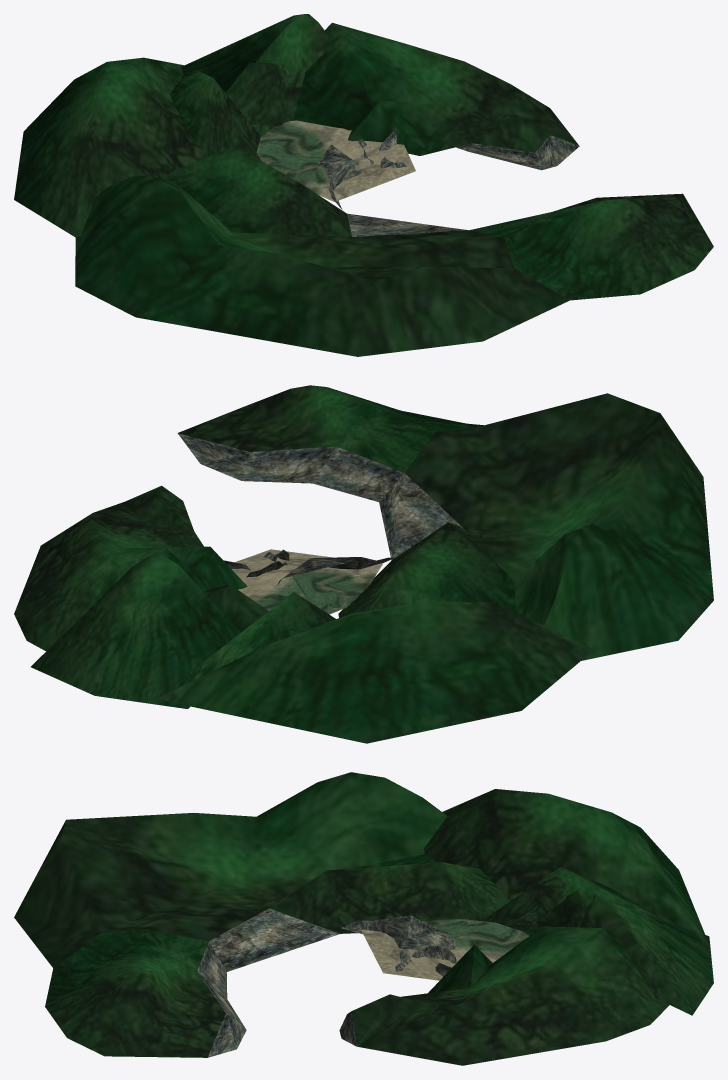
File: pir_m_are_isl_tortuga_low.fbx
3 renders of one model, top to bottom at view 1: azimuth 30°, elevation 25°; view 2: azimuth 150°, elevation 25°; view 3: azimuth 270°, elevation 25°, orthographic. The views are drawn at different scales.
Parts seen in each view (by area): view 1: hills, world_ground, island_rocks_2, island_rocks_1, island_rocks_3; view 2: hills, island_rocks_1, world_ground, island_rocks_3; view 3: hills, island_rocks_1, world_ground, island_rocks_3, island_rocks_4.
Boxes of the visible parts, left/top/right/bottom form: hills: left=14, top=14, right=713, bottom=356; world_ground: left=256, top=120, right=415, bottom=201; island_rocks_2: left=456, top=135, right=579, bottom=170; island_rocks_1: left=347, top=213, right=467, bottom=236; island_rocks_3: left=317, top=144, right=361, bottom=209; hills: left=14, top=385, right=713, bottom=743; island_rocks_1: left=178, top=433, right=462, bottom=560; world_ground: left=232, top=549, right=382, bottom=614; island_rocks_3: left=277, top=557, right=394, bottom=584; hills: left=14, top=772, right=713, bottom=1065; island_rocks_1: left=197, top=908, right=339, bottom=1057; world_ground: left=361, top=919, right=528, bottom=980; island_rocks_3: left=341, top=915, right=455, bottom=949; island_rocks_4: left=412, top=945, right=456, bottom=963.
Size of the model in its own units: 429186 by 70164 by 494278.
1 material, 1 textured.
